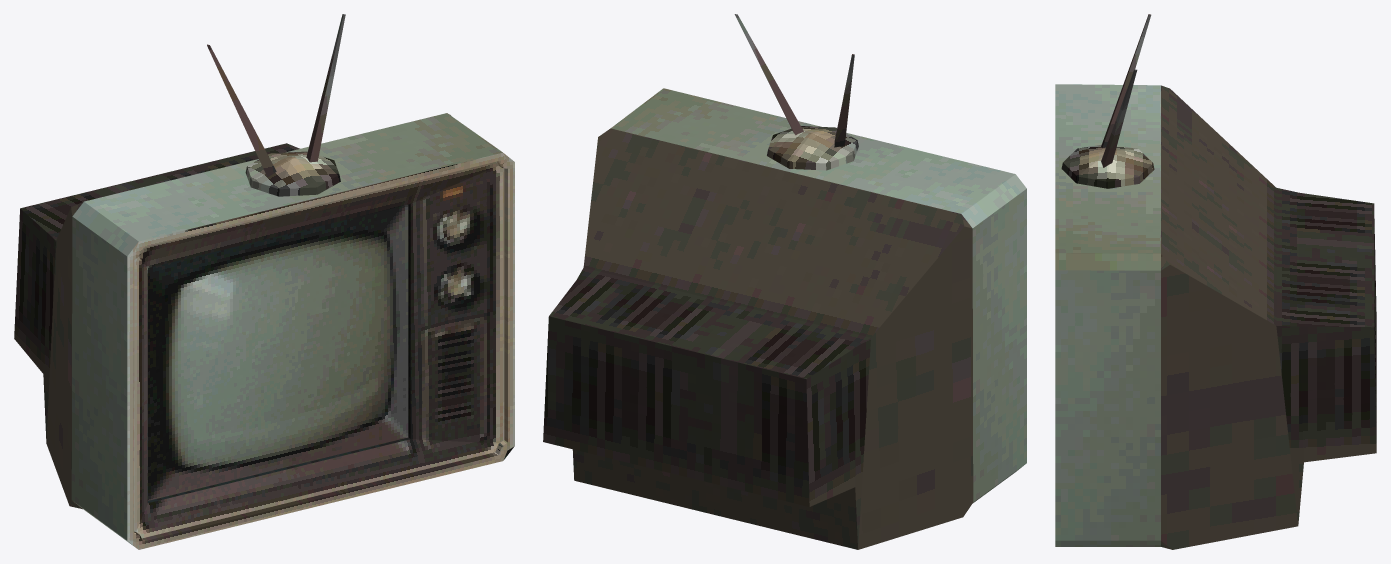
The model's file is computer_monitor.014.glb.
The picture shows the model from 3 angles, left to right: view 1: azimuth 30°, elevation 25°; view 2: azimuth 150°, elevation 25°; view 3: azimuth 270°, elevation 25°; orthographic projection. The views are drawn at different scales.
Visible parts, largest first — view 1: computer_monitor.014; view 2: computer_monitor.014; view 3: computer_monitor.014.
Part boxes in pixels (x1=…): computer_monitor.014: x1=14, y1=14, x2=514, y2=549; computer_monitor.014: x1=543, y1=14, x2=1026, y2=549; computer_monitor.014: x1=1055, y1=14, x2=1376, y2=549.
Size of the model in its own units: 0.8335 by 0.9127 by 0.6295.
Materials: 1 (1 with a texture image).
